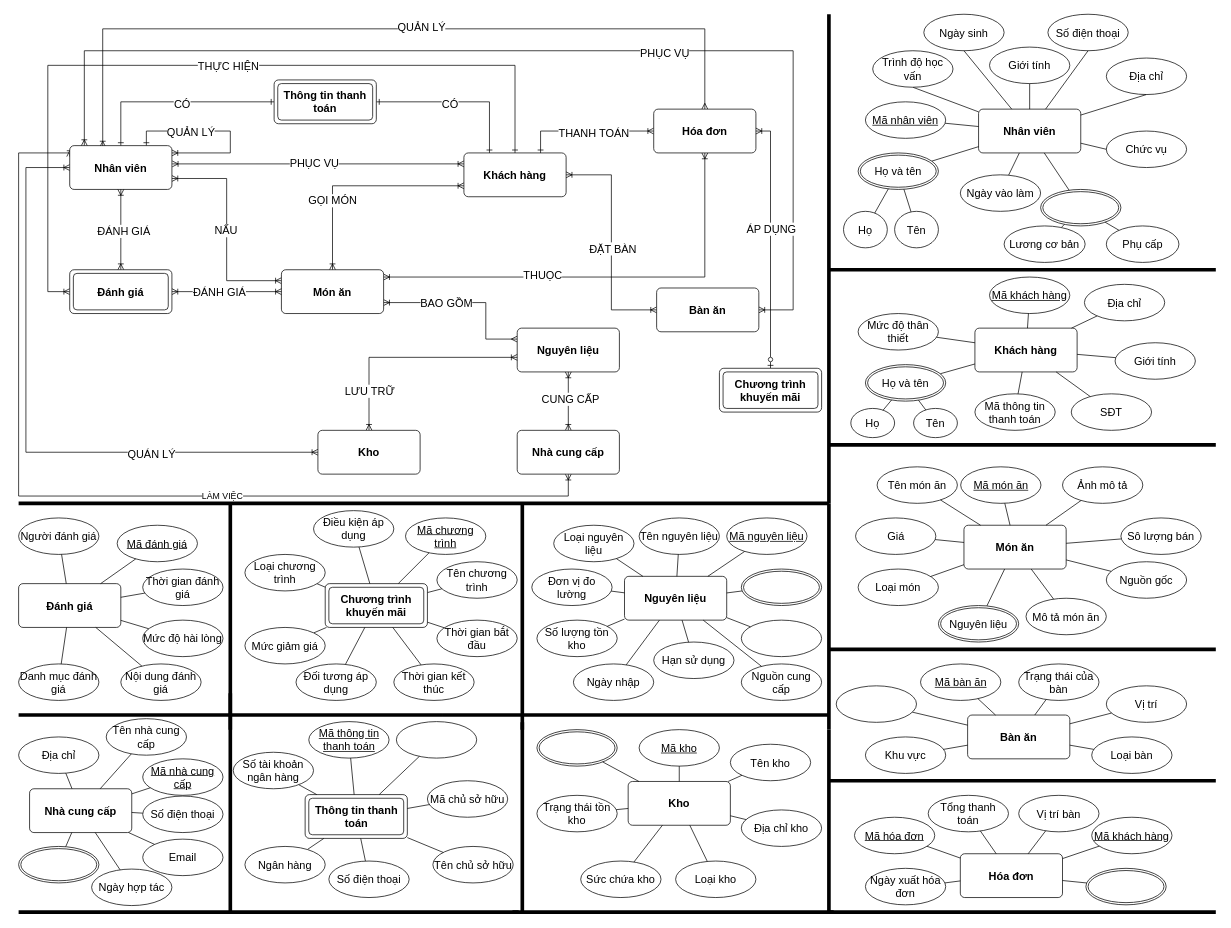
Some shapes in this 1231 by 928 pixel diagram are drawn without their labels. Each missing label, with the centre of its shape:
"Danh sác món ăn" goes at (x=1125, y=886).
"Danh sách nguyên liệu" goes at (x=576, y=747).
"Giá mua" goes at (x=781, y=638).
"Hình thức thanh toán" goes at (x=436, y=739).
"Món ăn sử dụng" goes at (x=781, y=587).
"Múc lương" goes at (x=1080, y=207).
"Nguyên liệu cung cấp" goes at (x=58, y=864).
"Số lương ghế" goes at (x=876, y=703).
